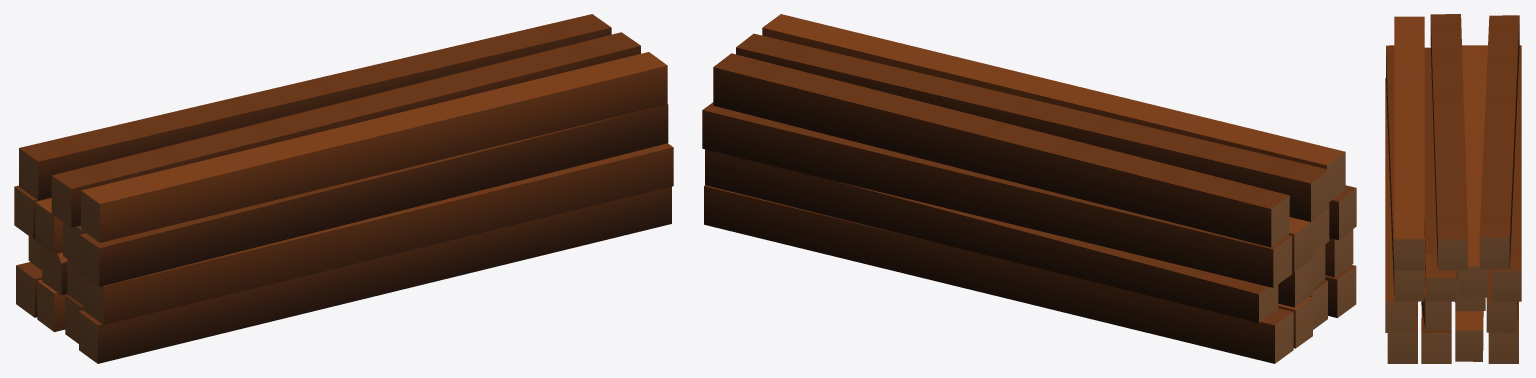
File: Wood_Stack_2B.fbx
The picture shows the model from 3 angles, left to right: view 1: azimuth 30°, elevation 25°; view 2: azimuth 150°, elevation 25°; view 3: azimuth 270°, elevation 25°; orthographic projection. The views are drawn at different scales.
Visible parts, largest first — view 1: Wood_Stack_2B; view 2: Wood_Stack_2B; view 3: Wood_Stack_2B.
Boxes of the visible parts, x1,y1,x2,y2 form: Wood_Stack_2B: (14,14,673,363); Wood_Stack_2B: (702,14,1356,363); Wood_Stack_2B: (1385,14,1521,363).
Bounding box in the file's own units: 388 × 100 × 99.24.
